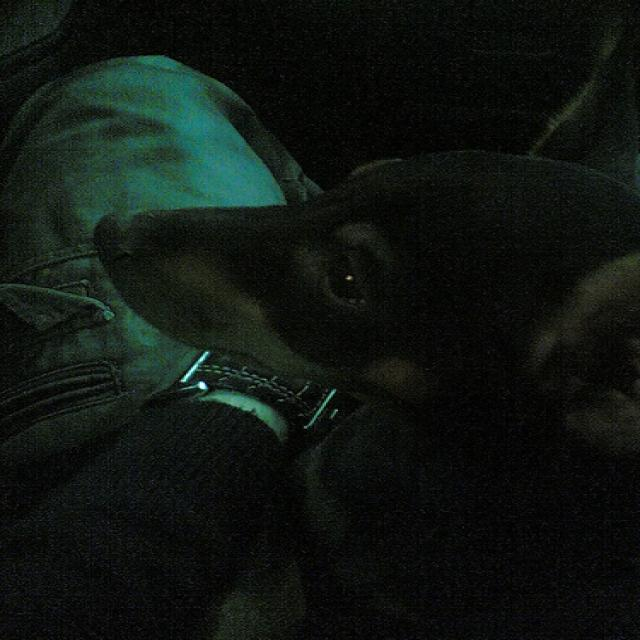Dog: (30, 123, 640, 566)
